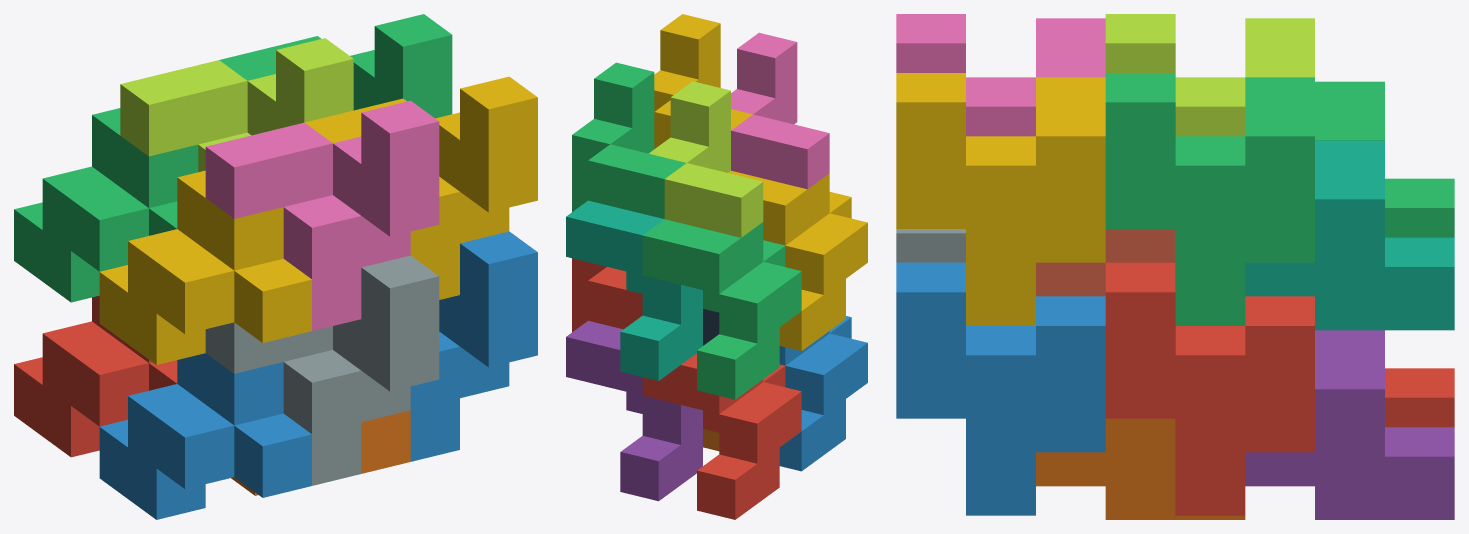
Rendered from tiling.obj.
3 views of the same model, side by side, from view 1: azimuth 30°, elevation 25°; view 2: azimuth 150°, elevation 25°; view 3: azimuth 270°, elevation 25° (orthographic). The views are drawn at different scales.
Parts seen in each view (by area): view 1: copy_2_domain_4, copy_1_domain_4, copy_2_domain_2, copy_1_domain_2, copy_1_domain_3, copy_2_domain_8, copy_2_domain_3, copy_2_domain_6, copy_1_domain_1, copy_2_domain_7, copy_1_domain_6; view 2: copy_1_domain_3, copy_1_domain_1, copy_1_domain_7, copy_1_domain_4, copy_2_domain_7, copy_2_domain_3, copy_2_domain_4, copy_1_domain_5, copy_1_domain_2, copy_2_domain_8, copy_2_domain_5, copy_2_domain_1; view 3: copy_2_domain_7, copy_2_domain_8, copy_2_domain_5, copy_2_domain_6, copy_1_domain_7, copy_1_domain_5, copy_2_domain_3, copy_2_domain_4, copy_1_domain_6, copy_1_domain_3, copy_1_domain_8, copy_1_domain_1 (+1 smaller).
Part boxes in pixels (x1,y1,x2,y2): copy_2_domain_4: [205, 100, 439, 330]; copy_1_domain_4: [99, 170, 311, 364]; copy_2_domain_2: [205, 255, 439, 485]; copy_1_domain_2: [99, 353, 311, 519]; copy_1_domain_3: [14, 108, 198, 302]; copy_2_domain_8: [305, 76, 537, 299]; copy_2_domain_3: [120, 38, 353, 172]; copy_2_domain_6: [410, 231, 537, 461]; copy_1_domain_1: [14, 295, 177, 457]; copy_2_domain_7: [219, 14, 452, 118]; copy_1_domain_6: [231, 410, 410, 495]; copy_1_domain_3: [642, 219, 801, 399]; copy_1_domain_1: [642, 353, 801, 519]; copy_1_domain_7: [566, 200, 702, 380]; copy_1_domain_4: [728, 170, 867, 350]; copy_2_domain_7: [572, 62, 686, 218]; copy_2_domain_3: [649, 81, 763, 237]; copy_2_domain_4: [731, 32, 829, 189]; copy_1_domain_5: [566, 320, 702, 501]; copy_1_domain_2: [779, 316, 867, 471]; copy_2_domain_8: [654, 14, 752, 148]; copy_2_domain_5: [572, 258, 642, 332]; copy_2_domain_1: [703, 308, 719, 345]; copy_2_domain_7: [1105, 73, 1314, 325]; copy_2_domain_8: [896, 73, 1105, 325]; copy_2_domain_5: [1105, 262, 1314, 515]; copy_2_domain_6: [896, 262, 1105, 515]; copy_1_domain_7: [1245, 140, 1454, 330]; copy_1_domain_5: [1245, 330, 1454, 519]; copy_2_domain_3: [1105, 14, 1314, 136]; copy_2_domain_4: [896, 14, 1105, 136]; copy_1_domain_6: [1036, 418, 1245, 519]; copy_1_domain_3: [1315, 81, 1454, 237]; copy_1_domain_8: [1036, 229, 1175, 296]; copy_1_domain_1: [1385, 368, 1454, 427].
Size of the model in its own units: 6 by 8 by 8.
